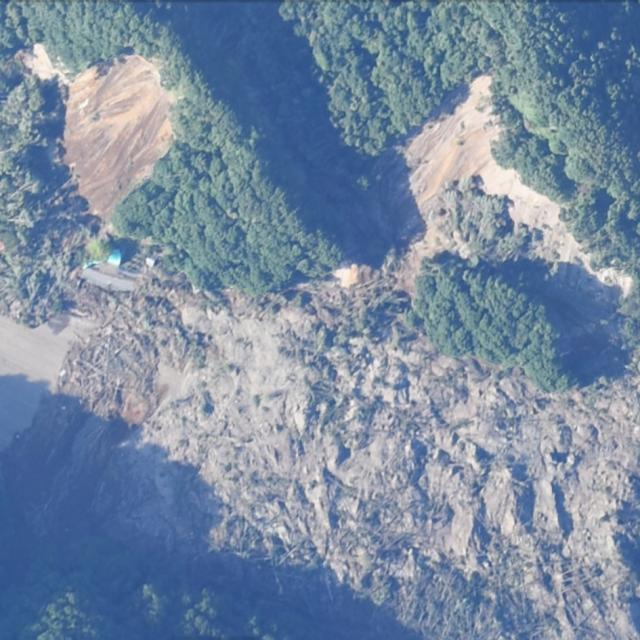landslide: (59, 274, 640, 640), (402, 74, 632, 293), (63, 54, 173, 221)
